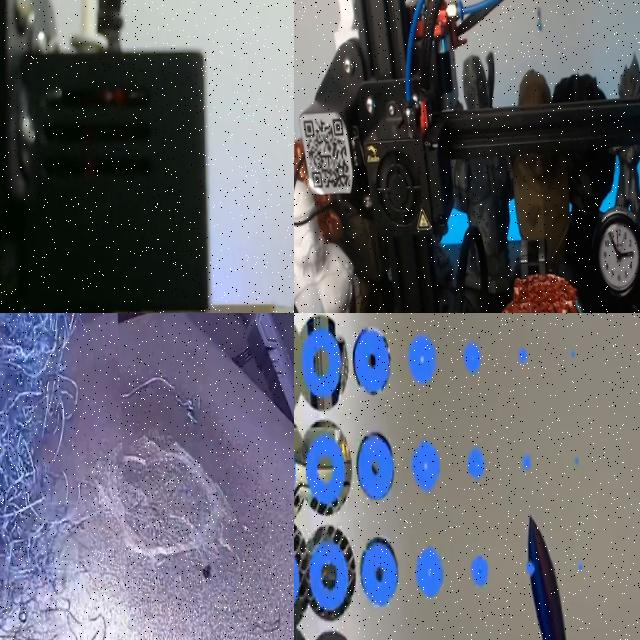spaghetti: (0, 313, 133, 640), (116, 364, 206, 436), (282, 443, 294, 612), (250, 608, 286, 640)
